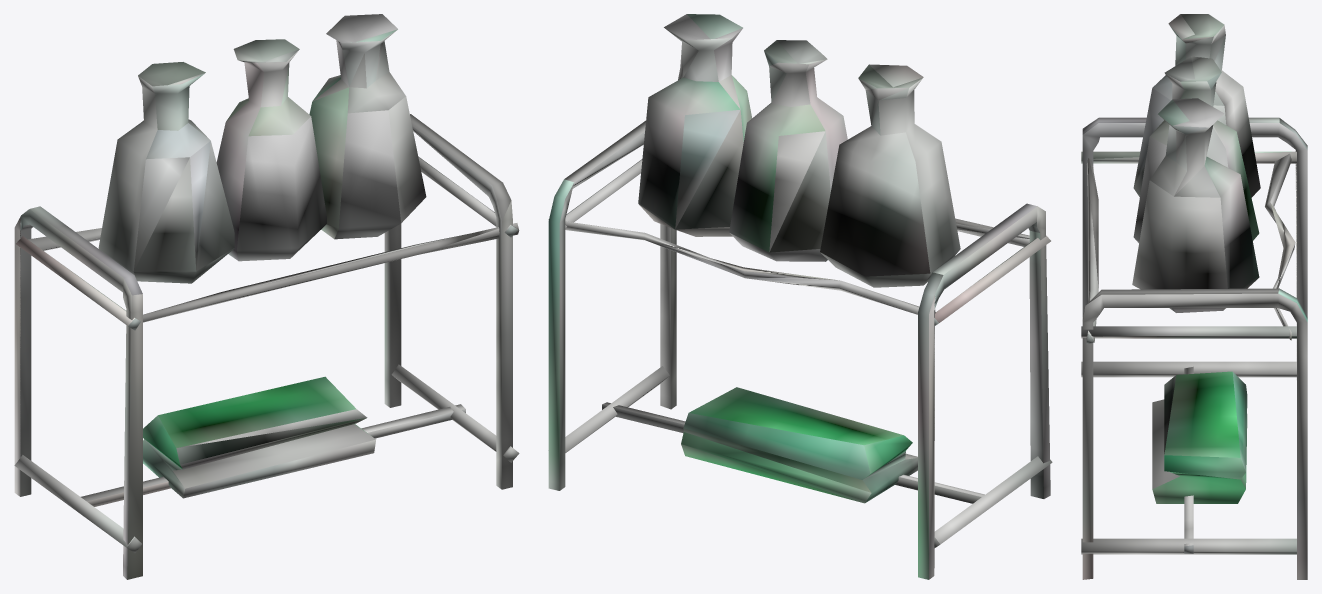
File: office-lab-bottle-rack.glb
3 renders of one model, left to right at view 1: azimuth 30°, elevation 25°; view 2: azimuth 150°, elevation 25°; view 3: azimuth 270°, elevation 25°, orthographic. The views are drawn at different scales.
Parts seen in each view (by area): view 1: lab-bottle-rack; view 2: lab-bottle-rack; view 3: lab-bottle-rack.
Boxes of the visible parts, x1,y1,x2,y2 form: lab-bottle-rack: (14,14,519,579); lab-bottle-rack: (548,14,1052,579); lab-bottle-rack: (1081,14,1307,579).
Bounding box in the file's own units: 0.3759 × 0.4 × 0.1943.
1 material, 1 textured.
